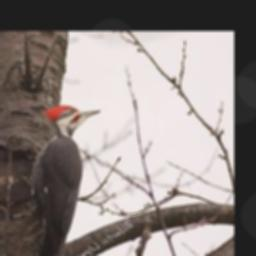Woodpecker: (25, 104, 104, 256)
